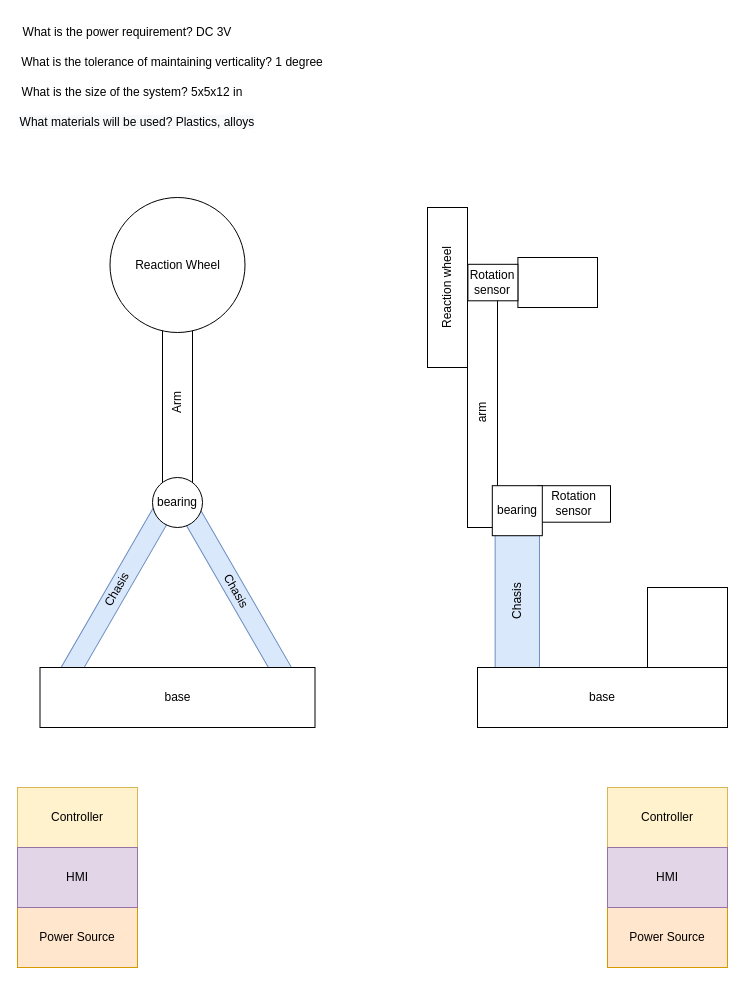
The diagram is 745 pixels wide and 985 high, and some of its shapes have lost their labels. Each missing label, with the centre of its shape:
"Counter Weight" belongs at (687,627).
"Motor-Actuator" belongs at (557,282).
